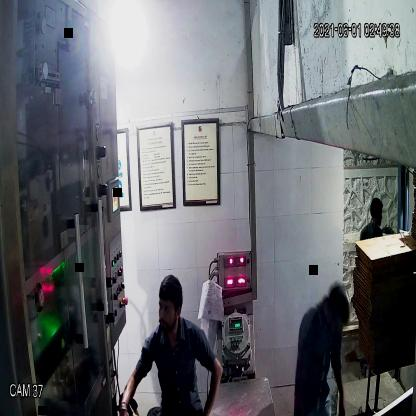no_goggles: (151, 296, 184, 320)
